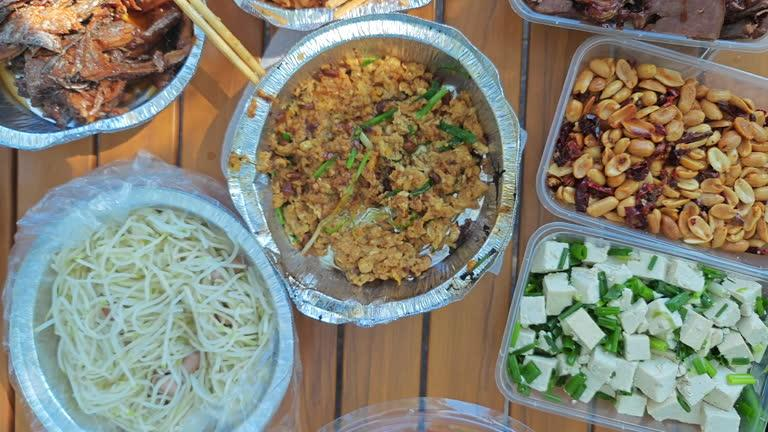Braised Crucian Carp: (228, 14, 511, 326), (5, 168, 293, 430), (496, 222, 763, 432), (528, 48, 768, 258), (1, 0, 199, 147)
